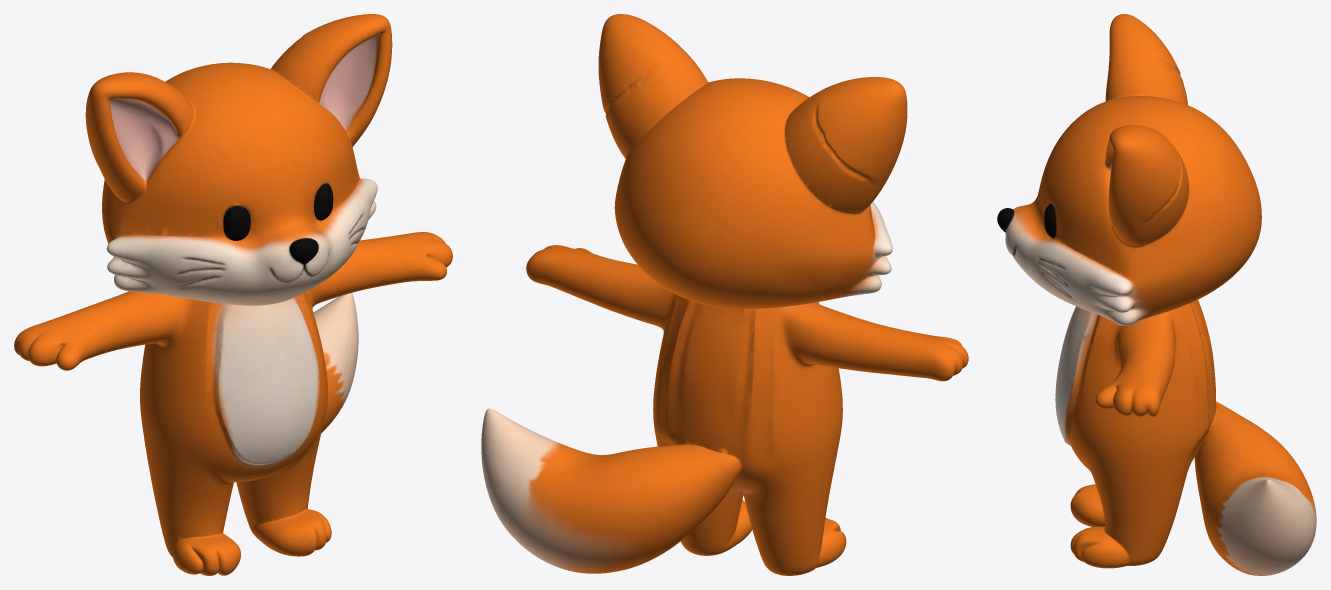
The model's file is fox.glb.
The picture shows the model from 3 angles, left to right: view 1: azimuth 30°, elevation 25°; view 2: azimuth 150°, elevation 25°; view 3: azimuth 270°, elevation 25°; orthographic projection. The views are drawn at different scales.
Visible parts, largest first — view 1: geometry_0; view 2: geometry_0; view 3: geometry_0.
Part boxes in pixels (x1,y1,x2,y2): geometry_0: (14, 14, 452, 575); geometry_0: (481, 14, 968, 575); geometry_0: (997, 14, 1316, 575).
Bounding box in the file's own units: 0.8925 × 1 × 0.6261.
Materials: 1 (1 with a texture image).
